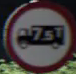Heavy Vehicles: (3, 4, 71, 62)
